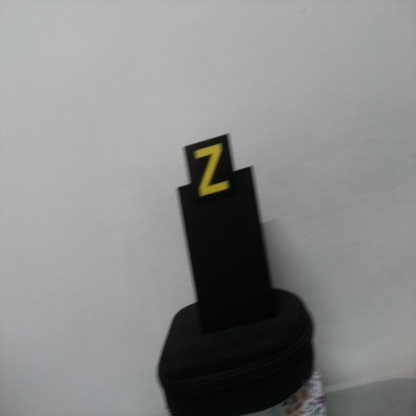id_15: (184, 145, 236, 205)
